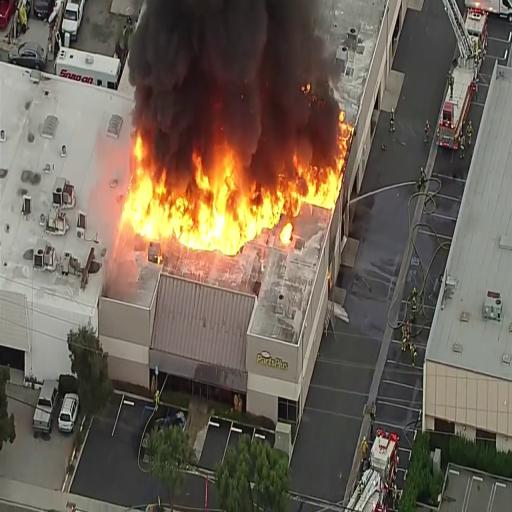fire: (166, 148, 248, 249), (118, 136, 172, 245), (290, 158, 338, 209), (246, 172, 284, 232)
smoke: (122, 0, 326, 137)
